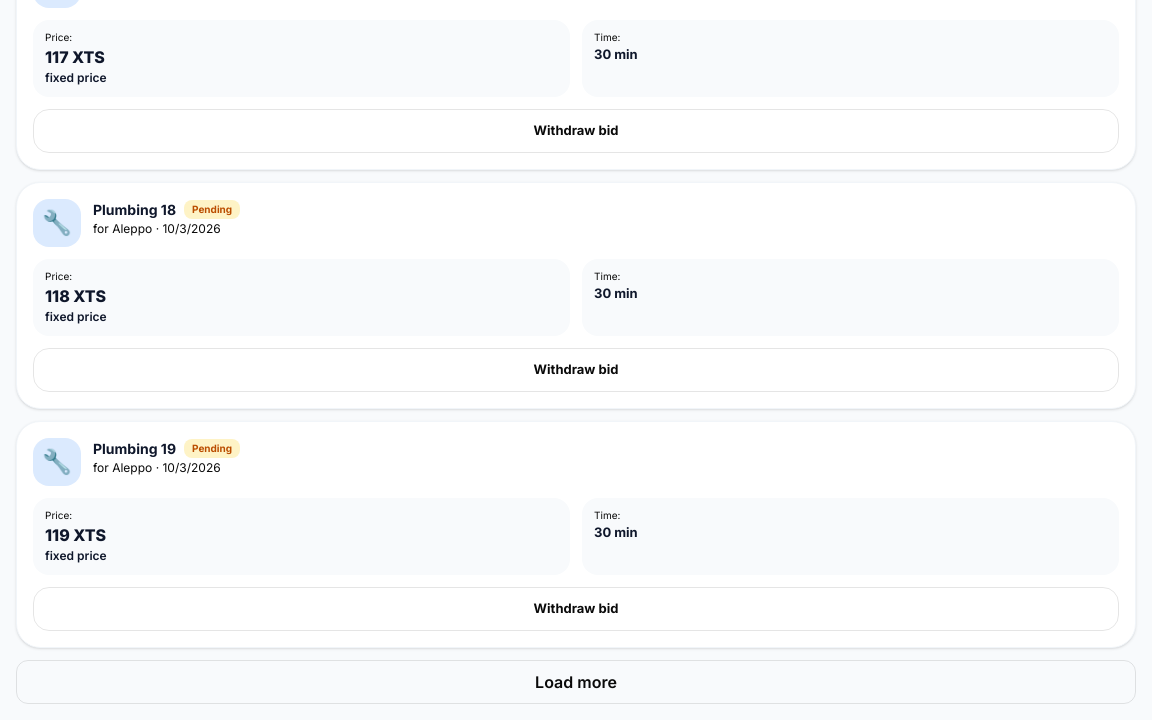
Test: MyBidsScreen pagination (E-18) › a later page that fails keeps the loaded bids usable and retries that same page
(page scrolled)
Step 1. Click the button "Load more" → (576, 682), box left=16, top=660, right=1136, bottom=704
(page scrolled)
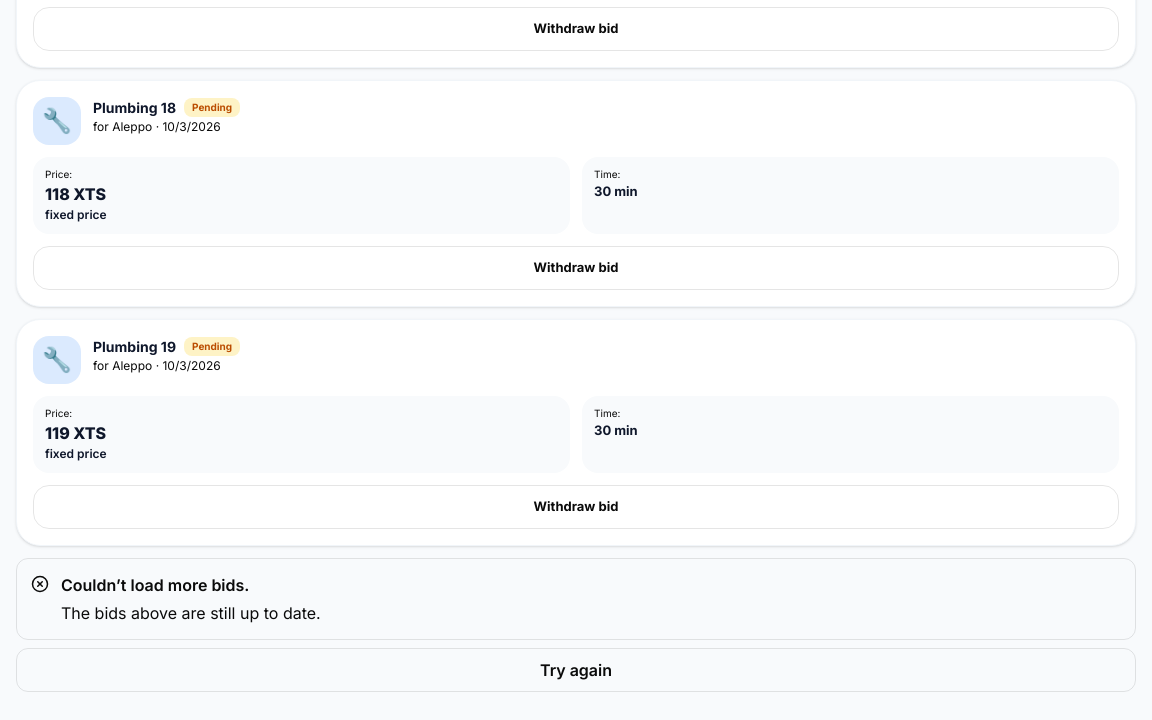
Expected: the message shows "Couldn’t load more bids.", left=61, top=574, right=249, bottom=594
Step 2. Click the button "Try again" → (576, 670), box left=16, top=648, right=1136, bottom=692
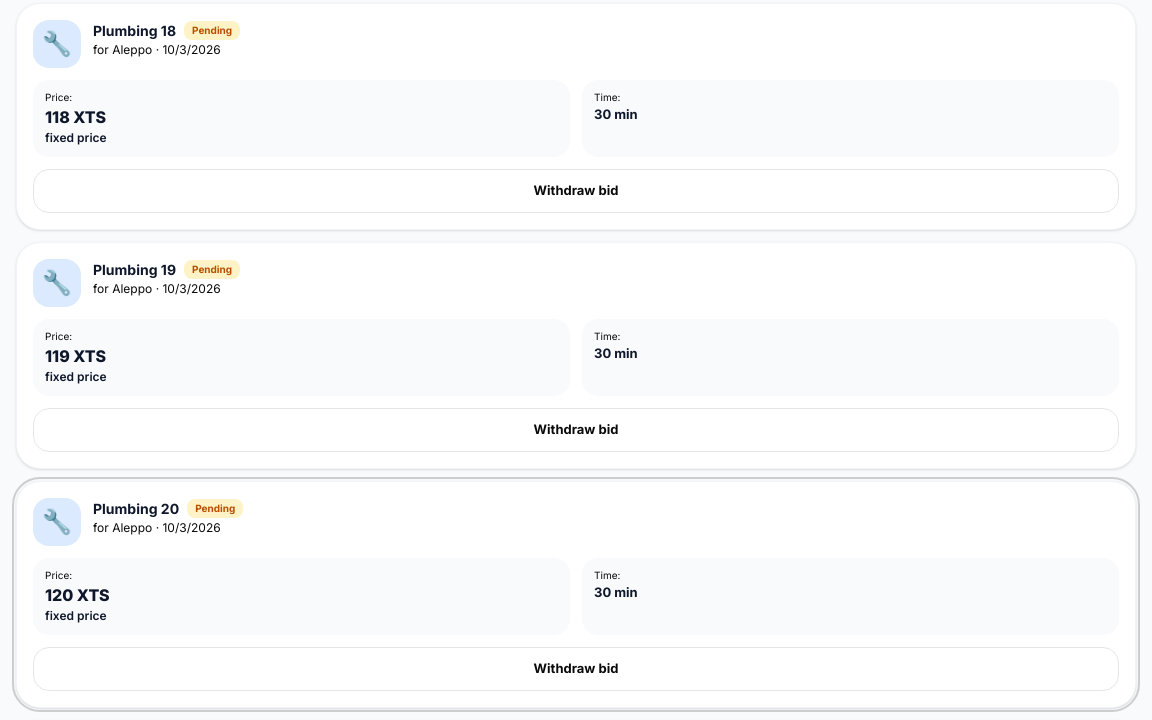
Expected: the element with test id "provider-bids-more-error" is gone
